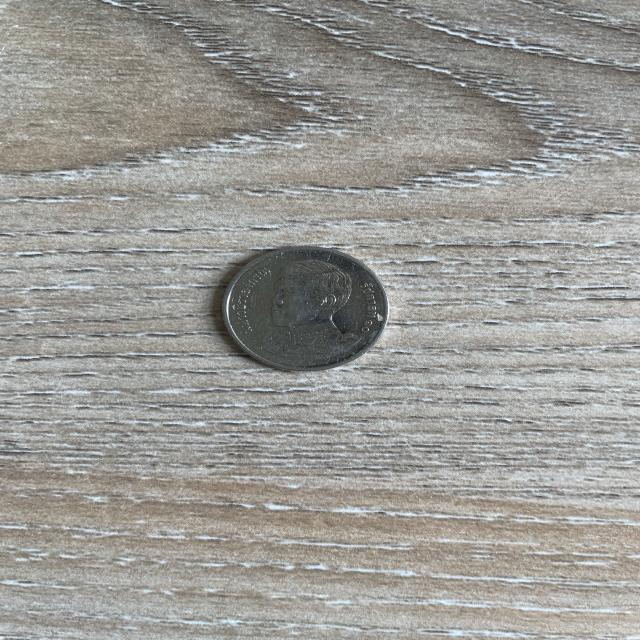1 Bath: (209, 241, 400, 378)
